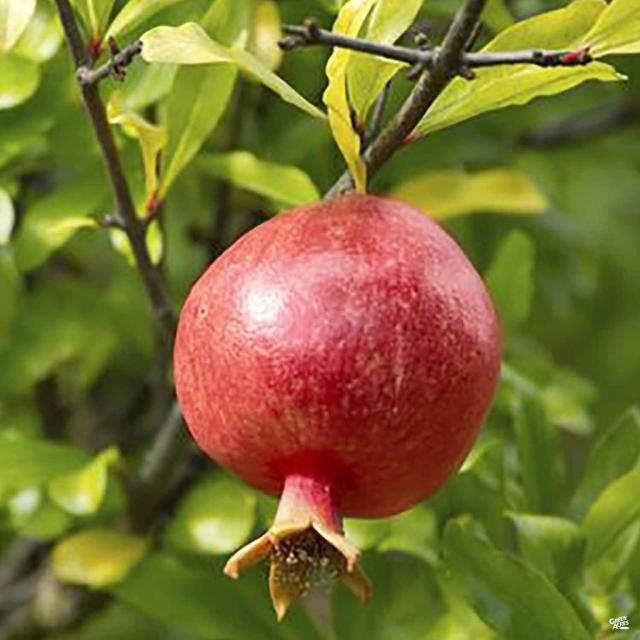Pomegranate: (174, 194, 501, 517)
